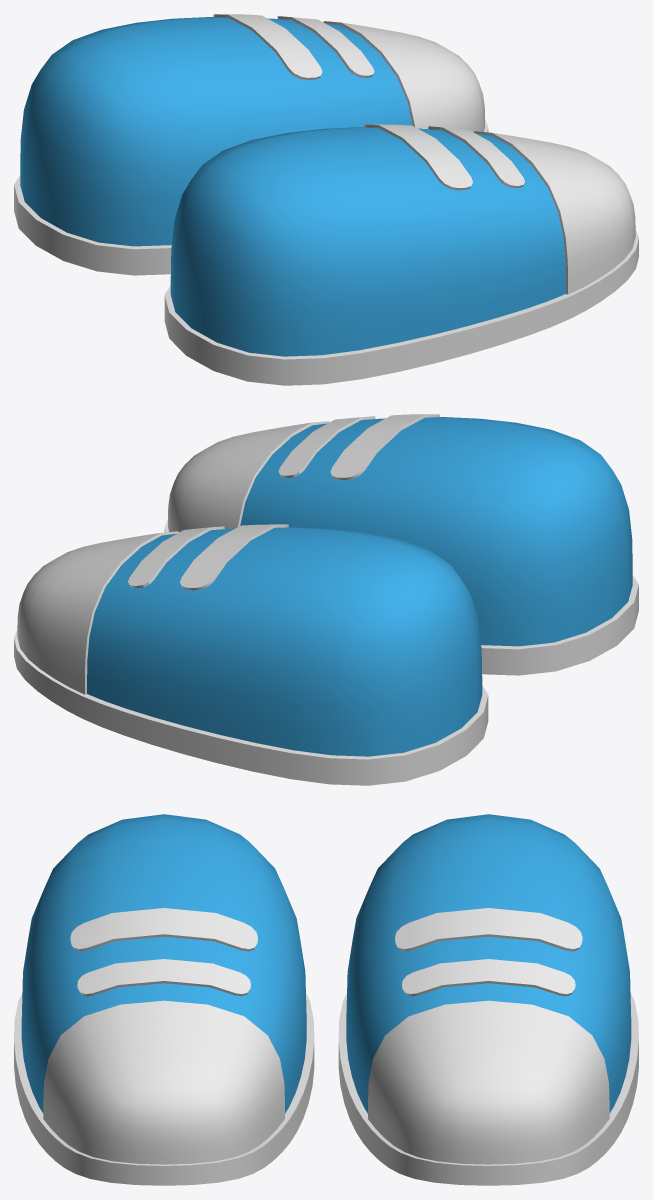
File: Sneaker.fbx
3 views of the same model, one above another, from view 1: azimuth 30°, elevation 25°; view 2: azimuth 150°, elevation 25°; view 3: azimuth 270°, elevation 25° (orthographic). The views are drawn at different scales.
Visible parts, largest first — view 1: Sneakers; view 2: Sneakers; view 3: Sneakers.
Part boxes in pixels (bbox=[...]): Sneakers: bbox=[14, 14, 638, 385]; Sneakers: bbox=[14, 414, 638, 785]; Sneakers: bbox=[14, 814, 638, 1185].
Bounding box in the file's own units: 136 × 53.35 × 157.
